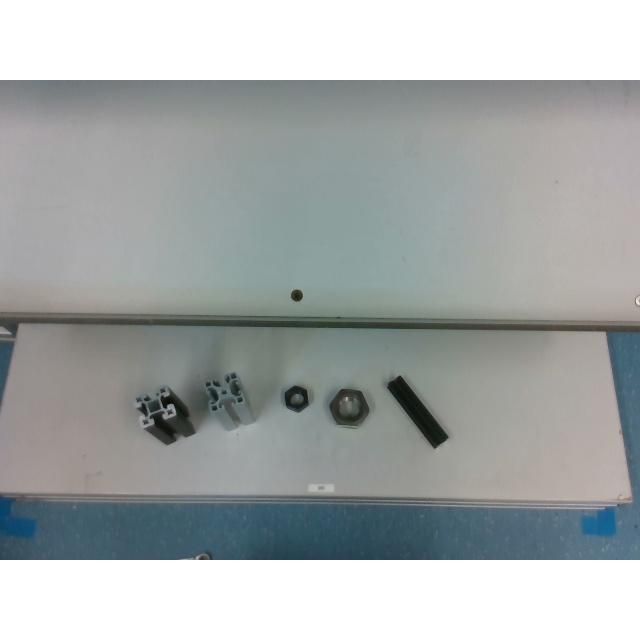F20_20_B: (386, 376, 448, 448)
M20: (284, 385, 308, 411)
M30: (330, 388, 370, 426)
S40_40_B: (135, 386, 195, 444)
S40_40_G: (204, 372, 252, 428)
